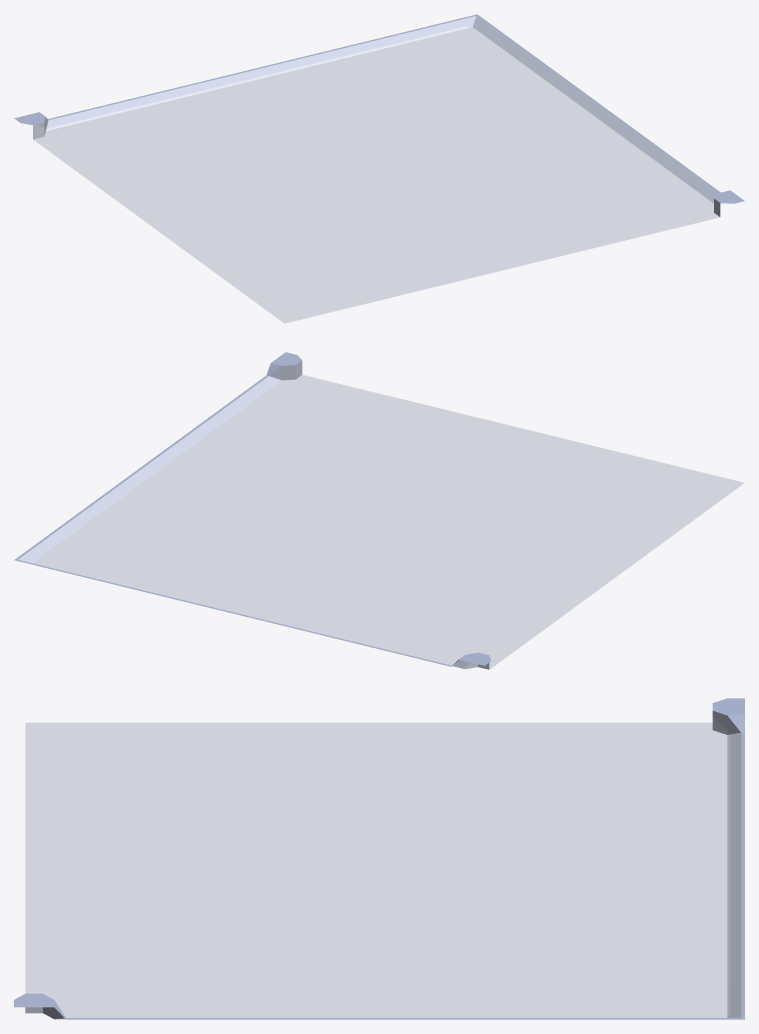
Rendered from Tile_Ceiling_Corner_In.fbx.
3 views of the same model, one above another, from view 1: azimuth 30°, elevation 25°; view 2: azimuth 150°, elevation 25°; view 3: azimuth 270°, elevation 25° (orthographic). The views are drawn at different scales.
Parts seen in each view (by area): view 1: Tile_Ceiling_CornerIN; view 2: Tile_Ceiling_CornerIN; view 3: Tile_Ceiling_CornerIN.
Boxes of the visible parts, x1,y1,x2,y2 form: Tile_Ceiling_CornerIN: (14,14,744,323); Tile_Ceiling_CornerIN: (14,352,744,669); Tile_Ceiling_CornerIN: (14,698,744,1019).
Bounding box in the file's own units: 200 × 5.9 × 200.
1 material, 1 textured.
